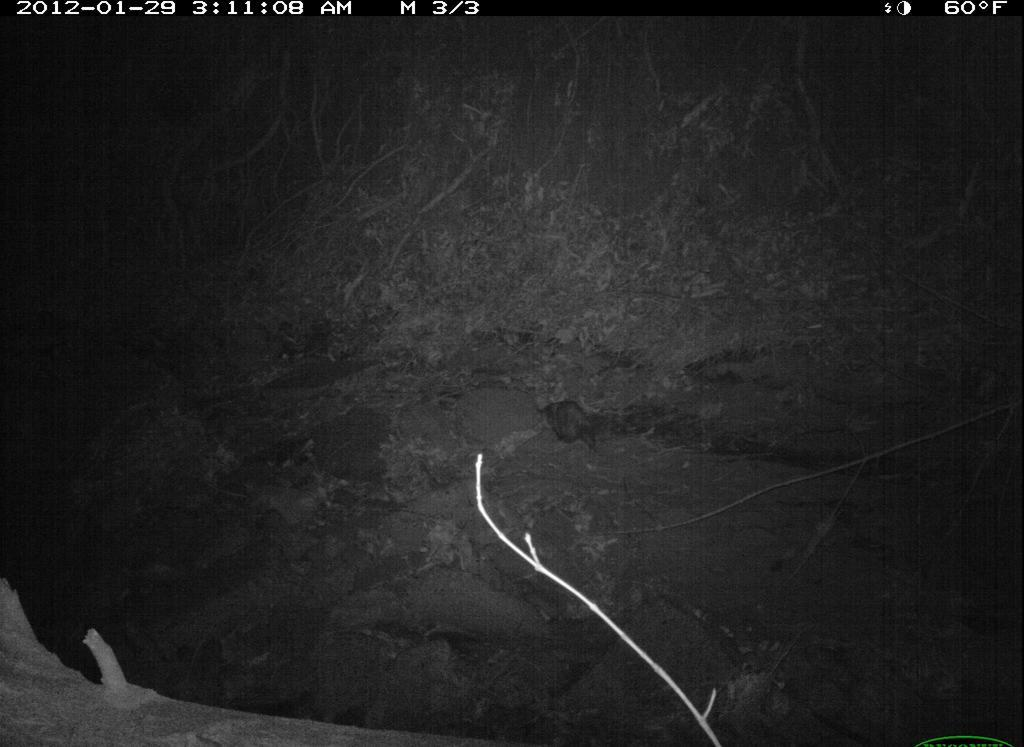opossum: (534, 396, 603, 451)
